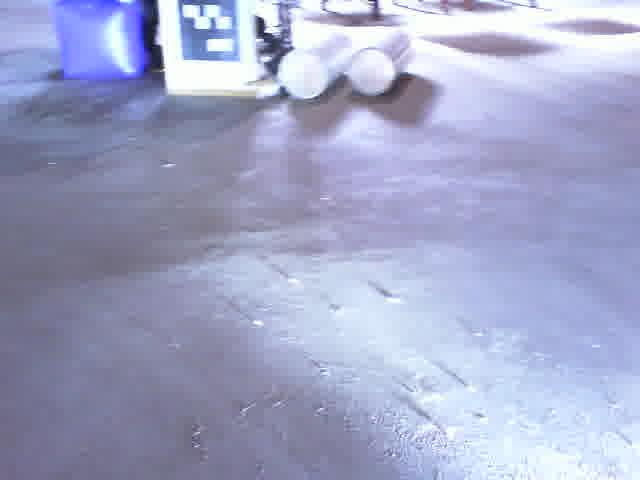coral: (278, 30, 355, 99), (352, 31, 417, 95)
